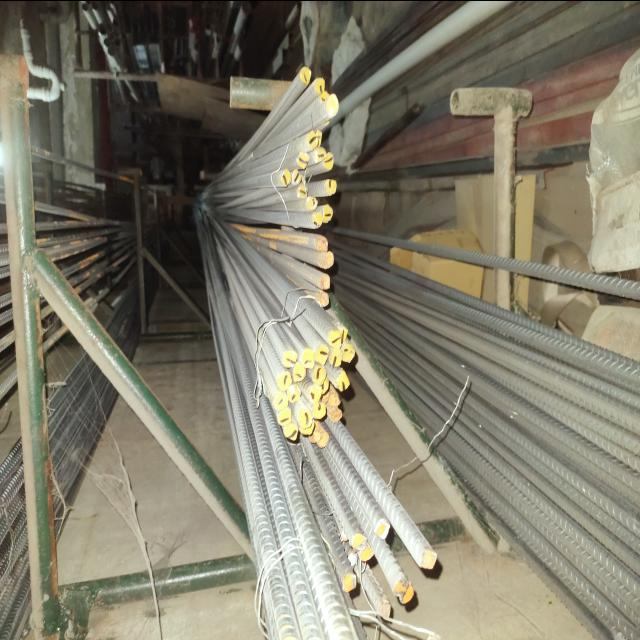Rebar: (329, 97, 340, 117), (331, 349, 343, 367), (307, 132, 318, 150), (282, 168, 293, 186), (291, 168, 302, 186), (312, 212, 323, 230), (323, 205, 334, 223), (344, 576, 358, 590), (353, 533, 367, 547), (360, 549, 374, 563), (323, 253, 335, 269), (304, 351, 316, 367), (284, 350, 296, 366), (294, 364, 306, 380), (279, 374, 291, 390), (289, 386, 301, 402), (276, 393, 288, 409), (280, 410, 292, 426), (287, 424, 299, 440), (299, 410, 311, 426), (314, 404, 326, 420), (309, 385, 321, 401), (340, 373, 350, 391), (307, 196, 318, 212), (298, 185, 309, 201), (298, 151, 309, 167), (376, 523, 388, 537), (397, 580, 409, 594), (424, 554, 436, 568), (316, 367, 326, 383), (406, 584, 414, 603), (328, 180, 338, 194), (331, 394, 341, 408), (332, 408, 342, 422), (345, 346, 353, 363), (319, 238, 330, 250), (316, 129, 324, 145), (326, 154, 334, 170), (317, 146, 325, 162), (318, 348, 326, 364), (318, 436, 328, 448), (303, 68, 311, 82), (317, 79, 325, 93), (321, 92, 329, 106), (323, 276, 331, 290), (322, 293, 330, 307), (333, 334, 341, 348), (341, 329, 349, 343), (312, 431, 320, 443), (324, 379, 328, 393)
